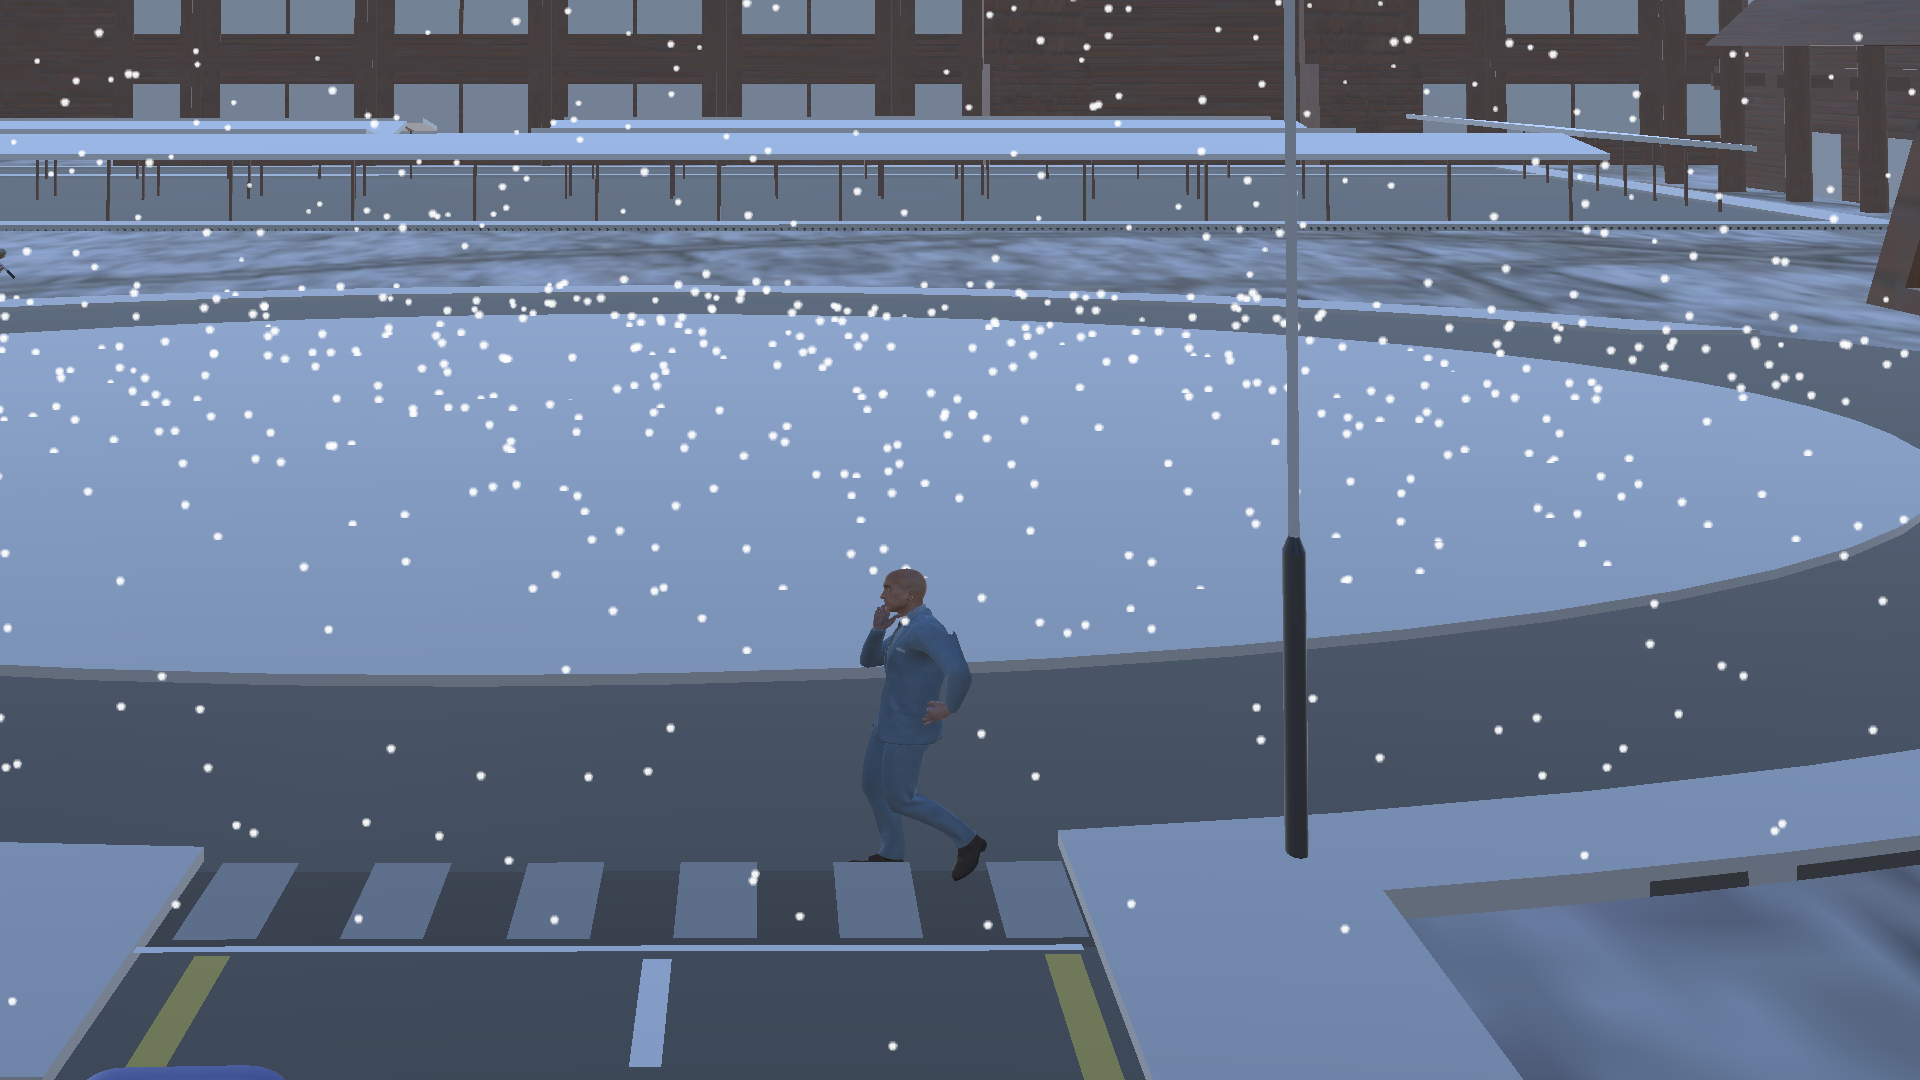pedestrian: (854, 559, 996, 879)
